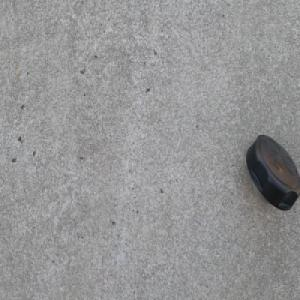FuelCap: (245, 132, 299, 210)
